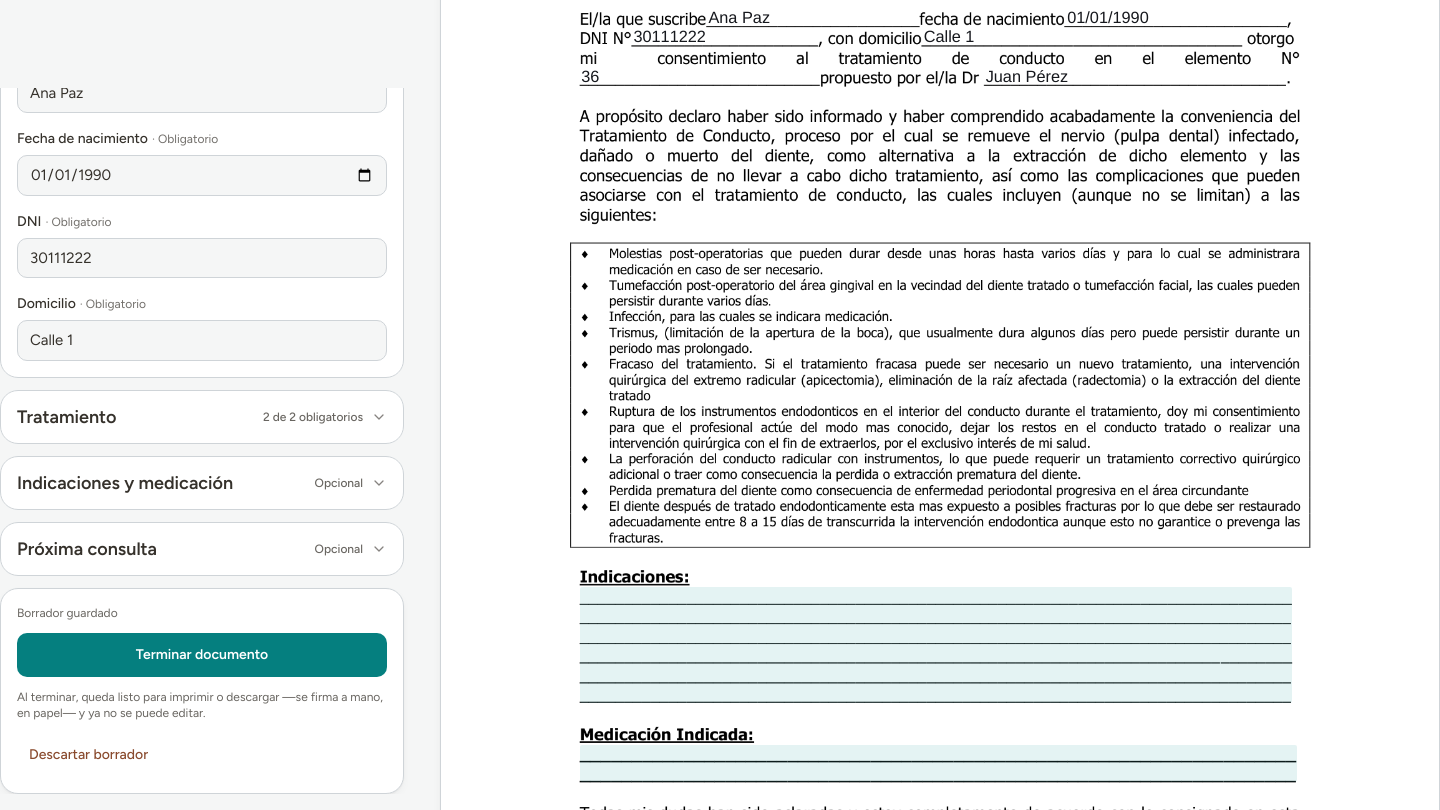
Test: EditorDeDocumento: los rótulos de terminar › el diálogo de un consentimiento dice el texto completo nuevo
This screenshot has width=1440, height=810.
(page scrolled)
Click the button "Terminar documento".
click(202, 654)  # box [17,632,387,676]
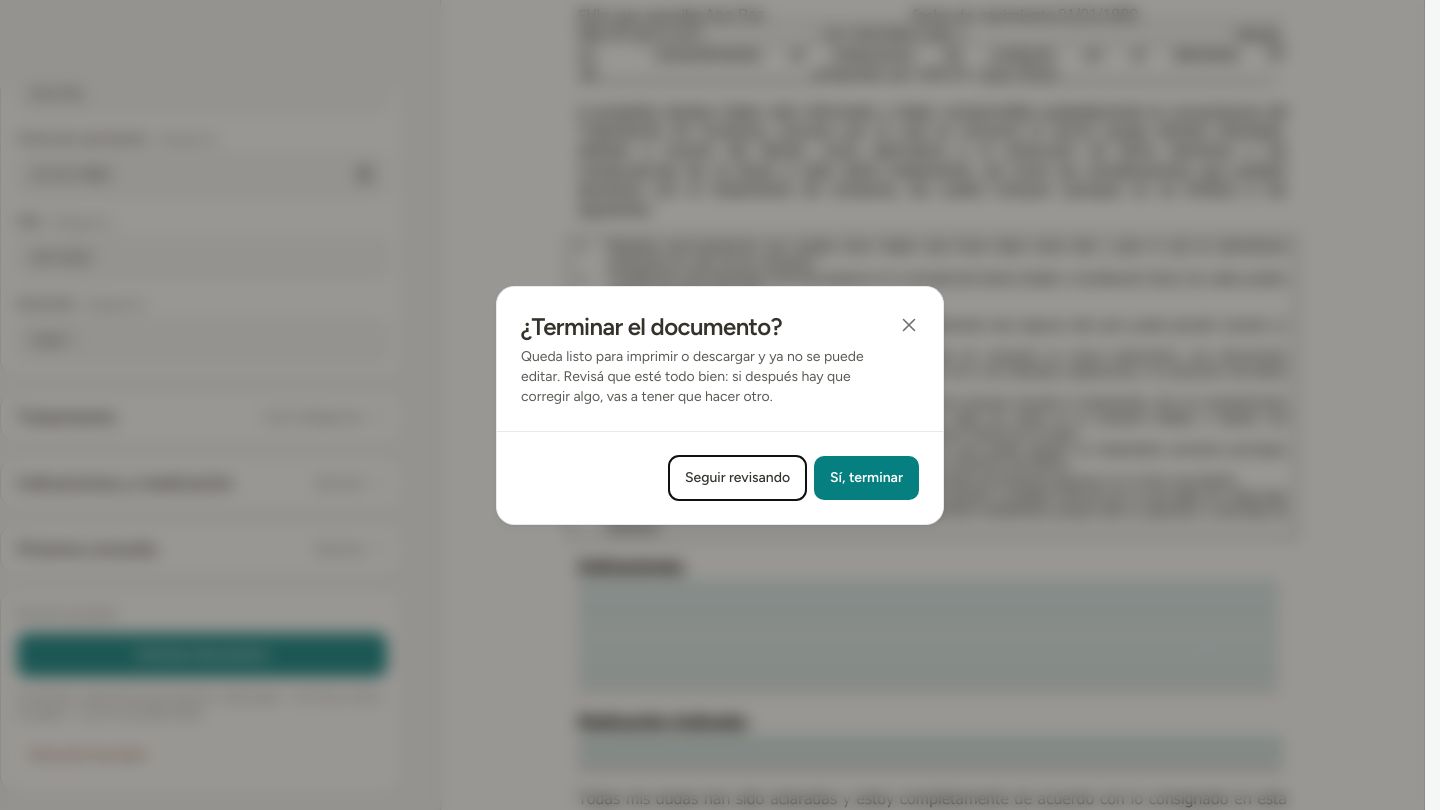
Expected: the dialog "¿Terminar el documento?" shows "Queda listo para imprimir o descargar y ya no se puede editar. Revisá que esté todo bien: si después hay que corregir algo, vas a tener que hacer otro.", [521,348,864,404]
